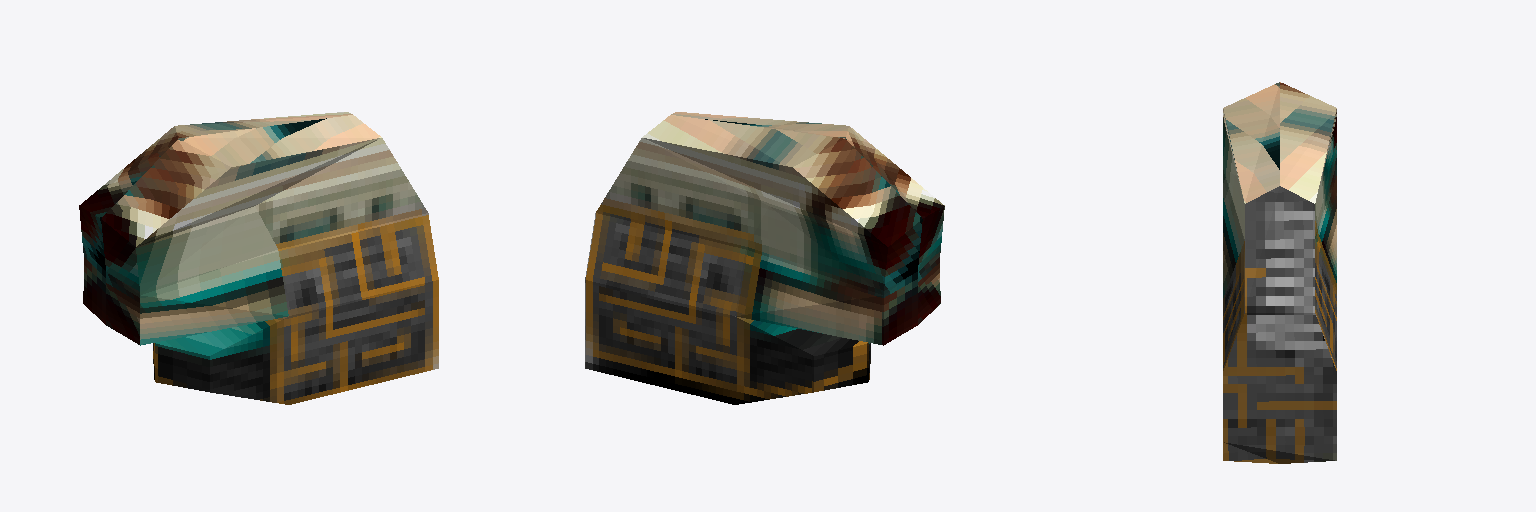
3 renders of one model, left to right at view 1: azimuth 30°, elevation 25°; view 2: azimuth 150°, elevation 25°; view 3: azimuth 270°, elevation 25°, orthographic.
Parts seen in each view (by area): view 1: gun_part_3; view 2: gun_part_3; view 3: gun_part_3.
Boxes of the visible parts, x1,y1,x2,y2 form: gun_part_3: [79, 112, 438, 404]; gun_part_3: [585, 112, 944, 404]; gun_part_3: [1223, 82, 1336, 463].
Bounding box in the file's own units: 0.271 × 0.2281 × 0.0861.
1 materials, 1 textured.